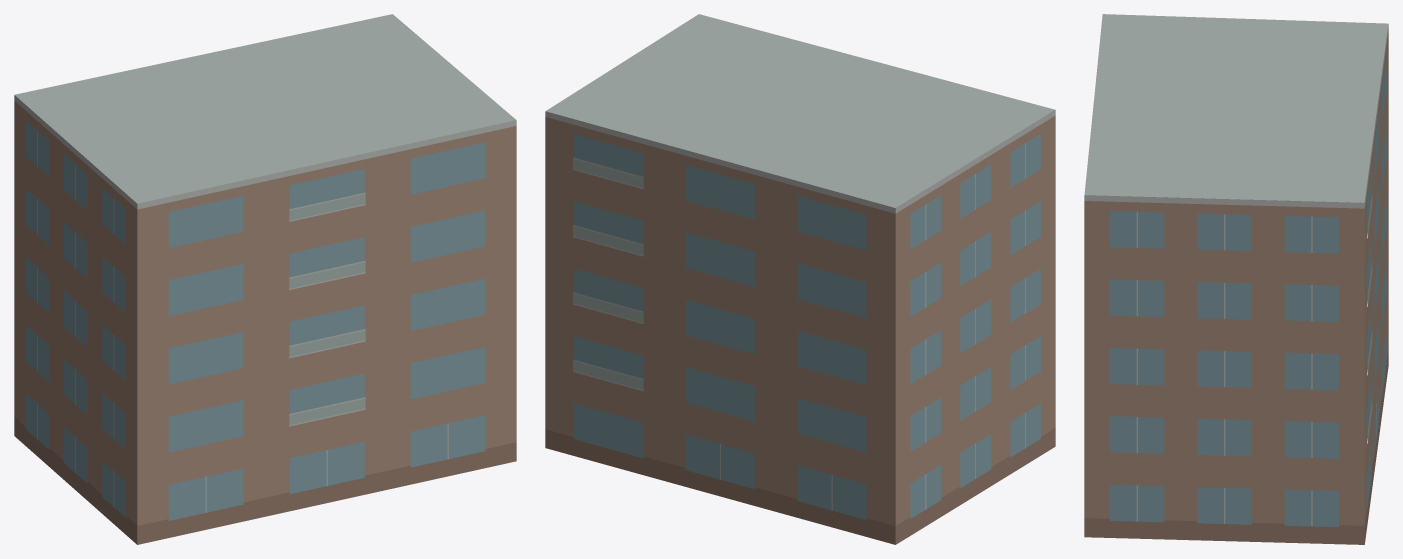
File: survey-upis-32957473.glb
3 renders of one model, left to right at view 1: azimuth 30°, elevation 25°; view 2: azimuth 150°, elevation 25°; view 3: azimuth 270°, elevation 25°, orthographic.
Parts seen in each view (by area): view 1: survey-upis-32957473.tmp; view 2: survey-upis-32957473.tmp; view 3: survey-upis-32957473.tmp.
Boxes of the visible parts, box(x1,y1,x2,y2) form: survey-upis-32957473.tmp: box(14, 14, 516, 544); survey-upis-32957473.tmp: box(545, 14, 1055, 544); survey-upis-32957473.tmp: box(1084, 14, 1388, 544).
Size of the model in its own units: 17.18 by 14.5 by 11.69.
